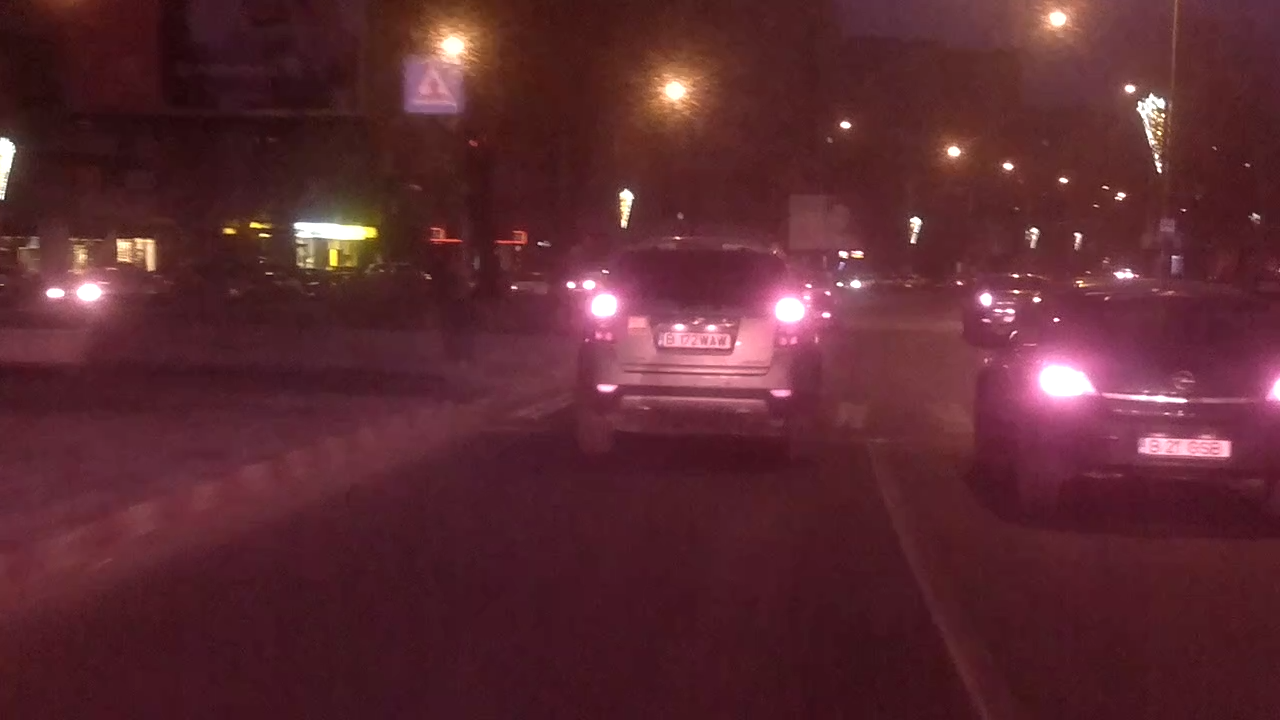license-plate: (1132, 433, 1236, 460), (654, 330, 735, 351)
